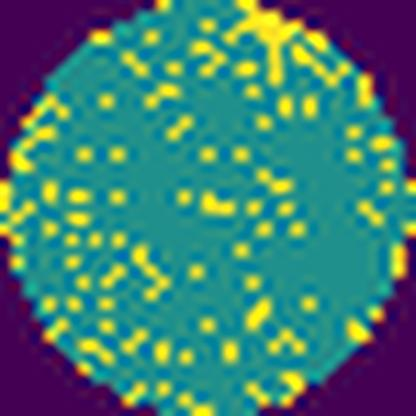Edge-Loc: (224, 0, 343, 91)
